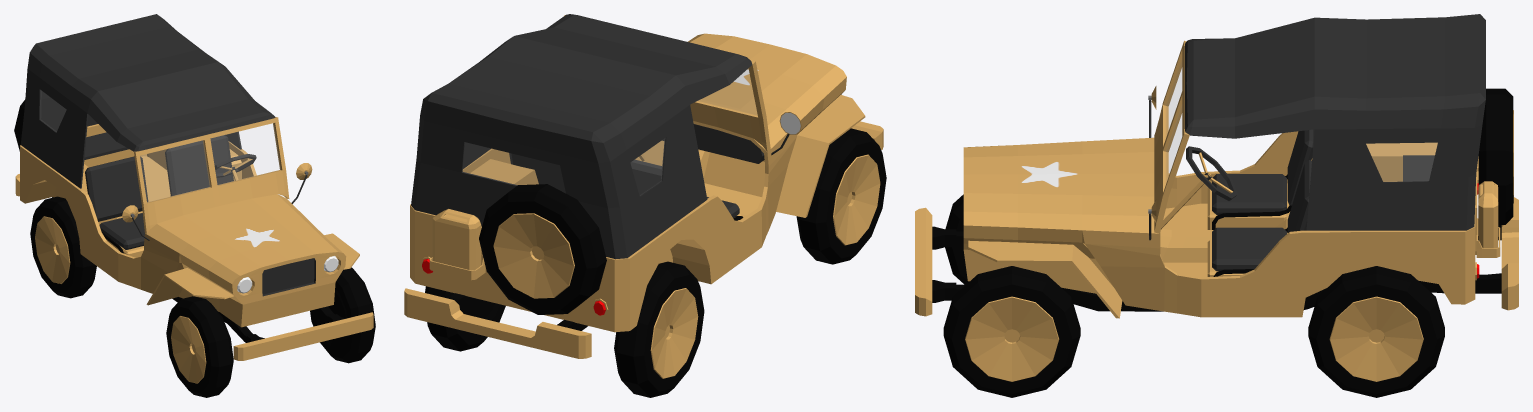
3 renders of one model, left to right at view 1: azimuth 30°, elevation 25°; view 2: azimuth 150°, elevation 25°; view 3: azimuth 270°, elevation 25°, orthographic. The views are drawn at different scales.
Visible parts, largest first — view 1: Plane.008, Plane.009, Plane.011, Cylinder.014, Cylinder.013, Cylinder.012; view 2: Plane.008, Cylinder.016, Cylinder.013, Cylinder.014, Plane.009, Plane.010, Cylinder.015, Plane.011; view 3: Plane.008, Cylinder.012, Cylinder.015, Plane.009, Cylinder.016, Plane.010, Cylinder.014, Plane.011.
Boxes of the visible parts, left/top/right/bottom form: Plane.008: left=15, top=14, right=373, bottom=360; Plane.009: left=84, top=124, right=256, bottom=257; Plane.011: left=140, top=124, right=280, bottom=201; Cylinder.014: left=166, top=296, right=233, bottom=397; Cylinder.013: left=30, top=196, right=96, bottom=298; Cylinder.012: left=310, top=267, right=375, bottom=363; Plane.008: left=404, top=14, right=883, bottom=358; Cylinder.016: left=479, top=184, right=606, bottom=314; Cylinder.013: left=614, top=261, right=704, bottom=397; Cylinder.014: left=796, top=128, right=886, bottom=264; Plane.009: left=429, top=153, right=743, bottom=280; Plane.010: left=432, top=209, right=481, bottom=270; Cylinder.015: left=425, top=286, right=505, bottom=351; Plane.011: left=699, top=70, right=756, bottom=114; Plane.008: left=915, top=14, right=1518, bottom=318; Cylinder.012: left=943, top=266, right=1080, bottom=397; Cylinder.015: left=1308, top=266, right=1444, bottom=397; Plane.009: left=1161, top=129, right=1500, bottom=276; Cylinder.016: left=1478, top=88, right=1513, bottom=224; Plane.010: left=1478, top=181, right=1498, bottom=248; Cylinder.014: left=945, top=194, right=969, bottom=284; Plane.011: left=1166, top=62, right=1181, bottom=178.
Size of the model in its own units: 142 by 156 by 291.
